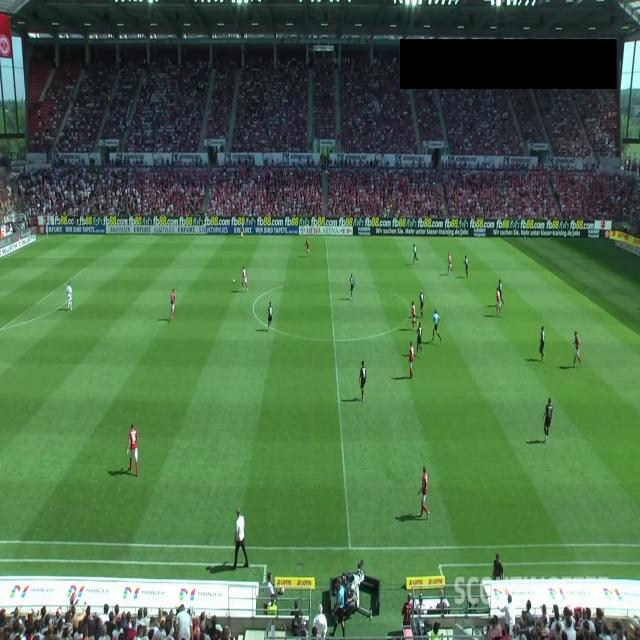Ball: (233, 278, 235, 284)
GoalKeeper: (66, 282, 73, 311)
Referee: (432, 308, 442, 344), (240, 222, 244, 238)
TEAM 1: (127, 424, 139, 476), (419, 467, 430, 520), (573, 330, 583, 369), (410, 300, 419, 330), (170, 288, 176, 321), (496, 288, 502, 319), (409, 341, 414, 378), (242, 265, 248, 294), (304, 239, 312, 258), (448, 253, 454, 276)
TEAM 2: (543, 398, 552, 439), (359, 359, 367, 402), (416, 322, 424, 358), (539, 326, 546, 363), (498, 277, 505, 307), (349, 273, 356, 300), (419, 290, 425, 320), (412, 242, 420, 264), (268, 301, 272, 332), (464, 255, 469, 277)
